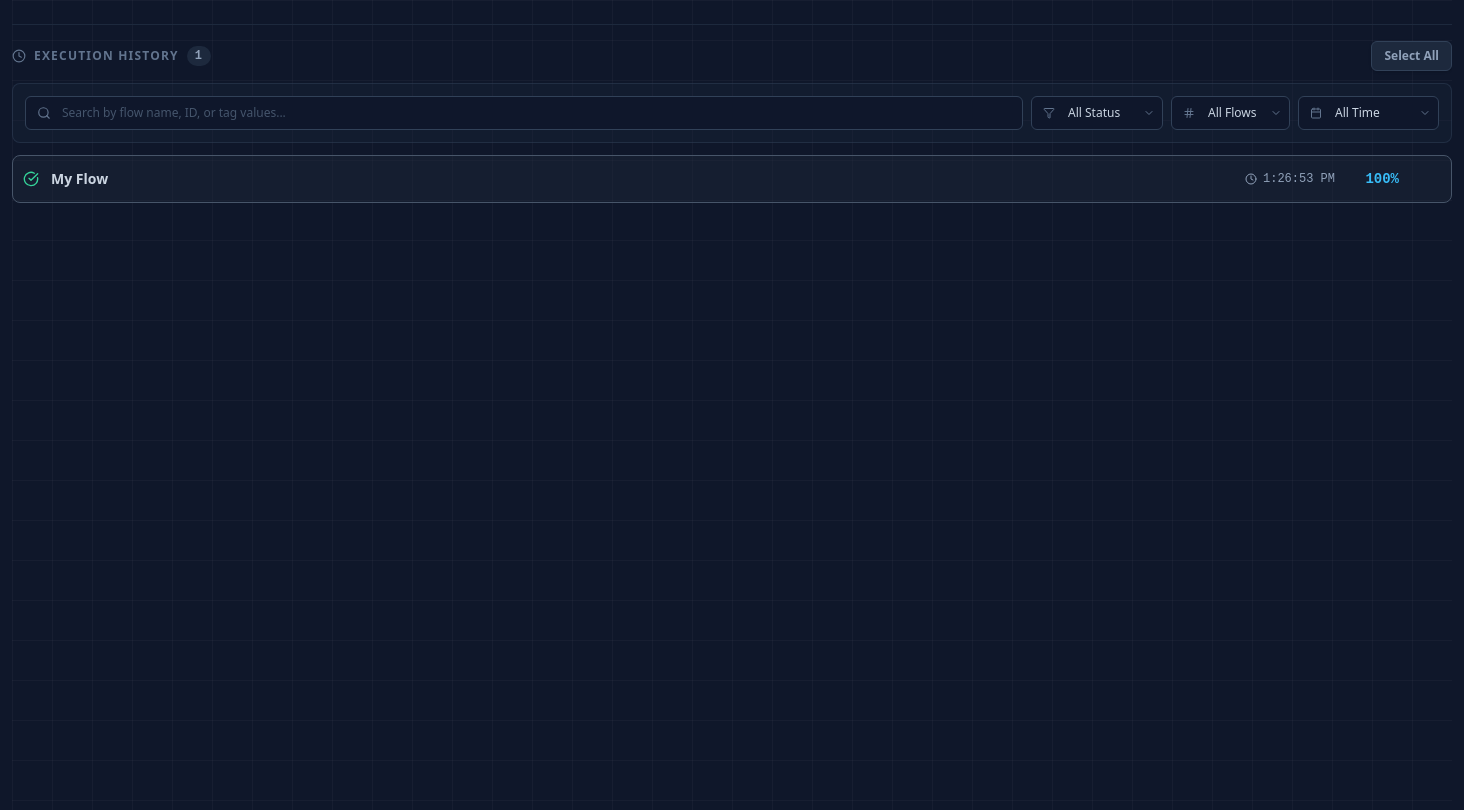
Test: HistoryPanel › clicking Deselect All hides delete button
This screenshot has width=1464, height=810.
What coordinates should you click on to do the following:
click the button "Select All"
I would click on:
 (1412, 56)
Its box is 1371,41 -> 1452,71.
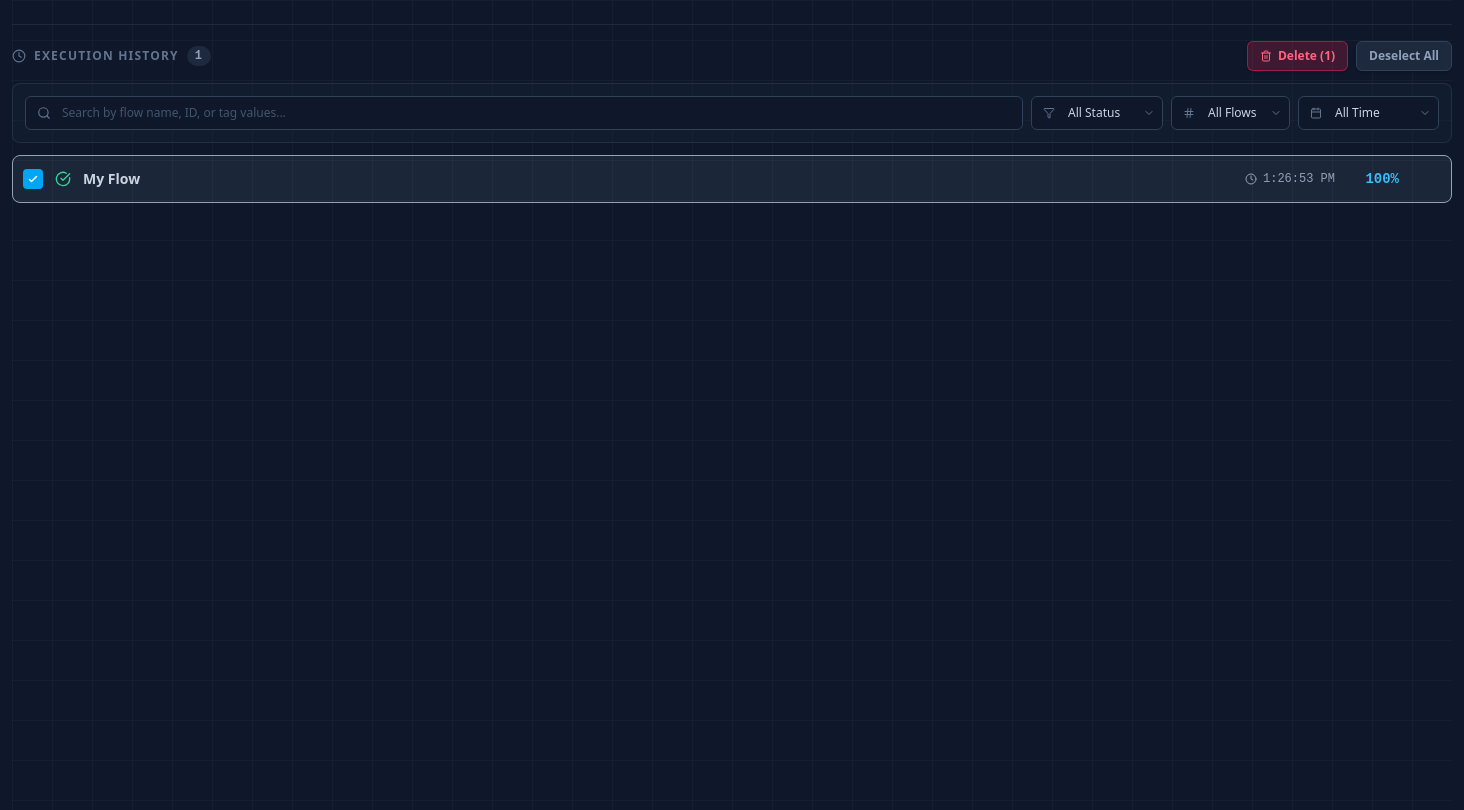
What coordinates should you click on to do the following:
click the button "Deselect All"
I would click on:
 (1404, 56)
Its box is 1356,41 -> 1452,71.
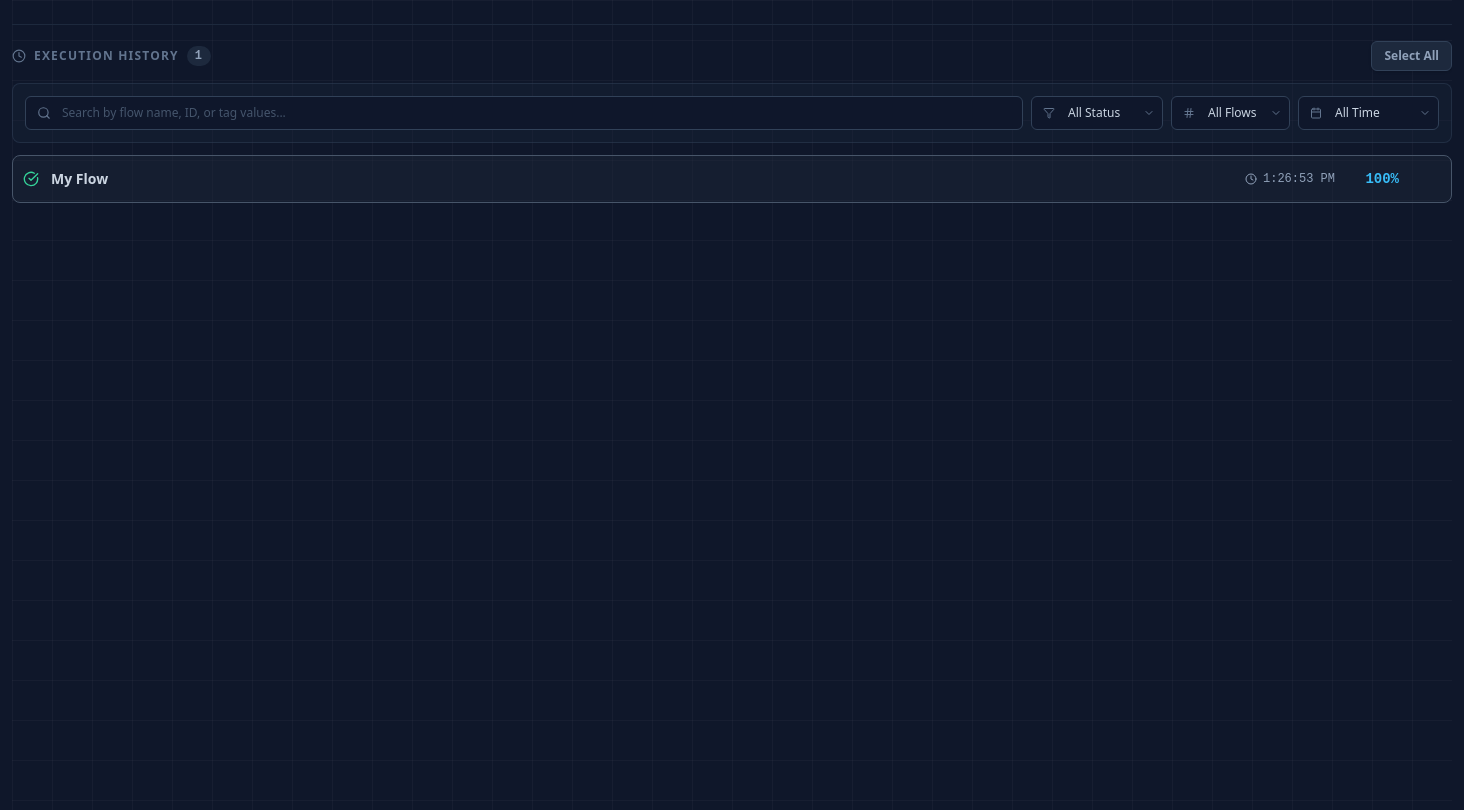
Now the button "Delete (" is gone
